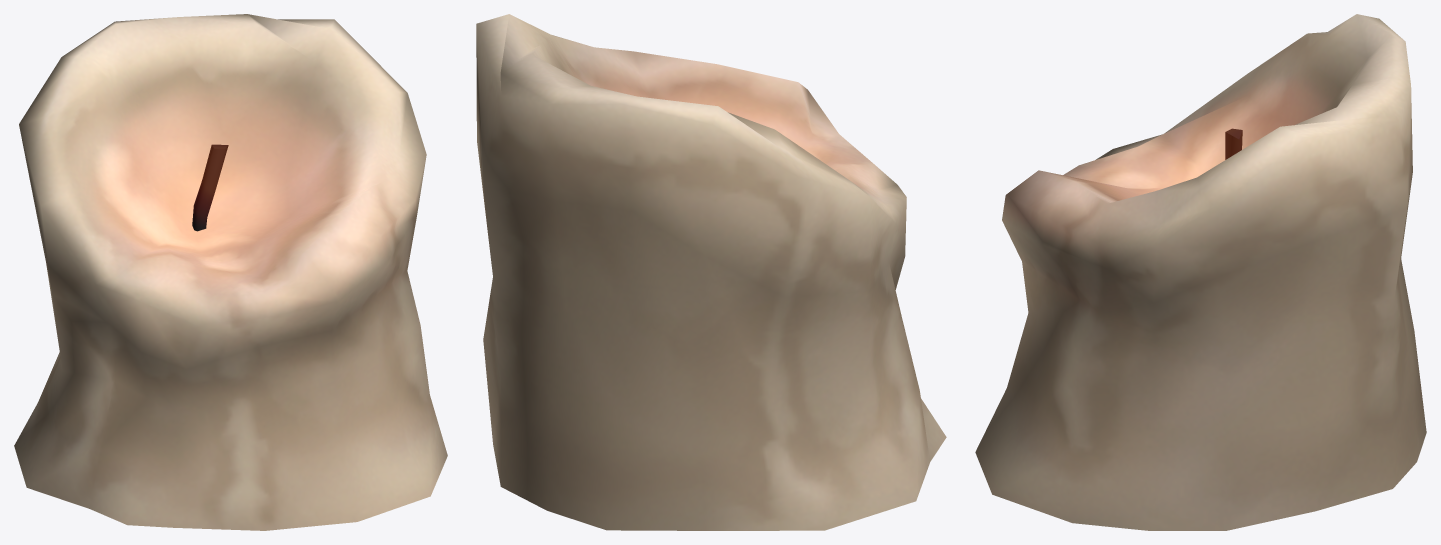
The model's file is SM_Candles_02.fbx.
3 views of the same model, side by side, from view 1: azimuth 30°, elevation 25°; view 2: azimuth 150°, elevation 25°; view 3: azimuth 270°, elevation 25° (orthographic). The views are drawn at different scales.
Parts seen in each view (by area): view 1: SM_Castle_Candle_02_LOD0; view 2: SM_Castle_Candle_02_LOD0; view 3: SM_Castle_Candle_02_LOD0.
Part boxes in pixels (<box>): SM_Castle_Candle_02_LOD0: <box>14,14,447,530</box>; SM_Castle_Candle_02_LOD0: <box>476,14,946,530</box>; SM_Castle_Candle_02_LOD0: <box>975,14,1426,530</box>.
Size of what is drawn, in the model's own units: 0.1821 by 0.1704 by 0.1776.
